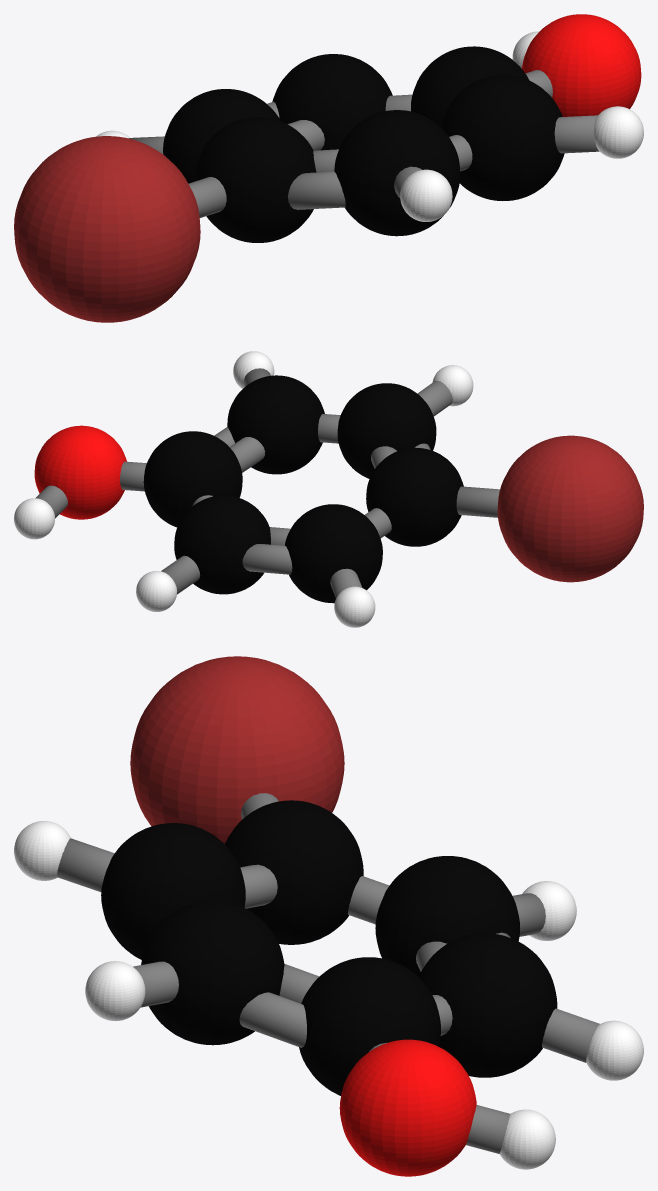
The model's file is BROMOFENOL.obj.
The picture shows the model from 3 angles, top to bottom: view 1: azimuth 30°, elevation 25°; view 2: azimuth 150°, elevation 25°; view 3: azimuth 270°, elevation 25°; orthographic projection. The views are drawn at different scales.
Visible parts, largest first — view 1: Carbon_ball_Sphere.003, Bromine_ball_Sphere.002, Oxygen_ball_Sphere.001, Hydrogen_ball_Sphere, Stick_Cylinder.015_Cylinder.017, Stick_Cylinder.010_Cylinder.010, Stick_Cylinder.003_Cylinder.003, Stick_Cylinder.013_Cylinder.013, Stick_Cylinder.008_Cylinder.008, Stick_Cylinder.011_Cylinder.011; view 2: Carbon_ball_Sphere.003, Bromine_ball_Sphere.002, Oxygen_ball_Sphere.001, Hydrogen_ball_Sphere, Stick_Cylinder.014_Cylinder.014, Stick_Cylinder.003_Cylinder.003, Stick_Cylinder.004_Cylinder.004, Stick_Cylinder.005_Cylinder.016, Stick_Cylinder.009_Cylinder.009, Stick_Cylinder.002_Cylinder.002, Stick_Cylinder.011_Cylinder.011, Stick_Cylinder_Cylinder (+2 smaller); view 3: Carbon_ball_Sphere.003, Bromine_ball_Sphere.002, Oxygen_ball_Sphere.001, Hydrogen_ball_Sphere, Stick_Cylinder.012_Cylinder.012, Stick_Cylinder.004_Cylinder.004, Stick_Cylinder.009_Cylinder.009, Stick_Cylinder.001_Cylinder.001, Stick_Cylinder.010_Cylinder.010, Stick_Cylinder.007_Cylinder.007, Stick_Cylinder.008_Cylinder.008, Stick_Cylinder_Cylinder (+1 smaller).
Part boxes in pixels (x1=…): Carbon_ball_Sphere.003: x1=163, y1=46, x2=564, y2=242; Bromine_ball_Sphere.002: x1=14, y1=136, x2=200, y2=322; Oxygen_ball_Sphere.001: x1=522, y1=14, x2=641, y2=116; Hydrogen_ball_Sphere: x1=96, y1=31, x2=643, y2=221; Stick_Cylinder.015_Cylinder.017: x1=287, y1=171, x2=345, y2=209; Stick_Cylinder.010_Cylinder.010: x1=554, y1=115, x2=599, y2=153; Stick_Cylinder.003_Cylinder.003: x1=188, y1=177, x2=226, y2=217; Stick_Cylinder.013_Cylinder.013: x1=287, y1=120, x2=324, y2=150; Stick_Cylinder.008_Cylinder.008: x1=313, y1=149, x2=338, y2=172; Stick_Cylinder.011_Cylinder.011: x1=449, y1=135, x2=472, y2=171; Carbon_ball_Sphere.003: x1=143, y1=375, x2=463, y2=603; Bromine_ball_Sphere.002: x1=497, y1=435, x2=643, y2=582; Oxygen_ball_Sphere.001: x1=34, y1=425, x2=126, y2=519; Hydrogen_ball_Sphere: x1=14, y1=351, x2=473, y2=627; Stick_Cylinder.014_Cylinder.014: x1=242, y1=544, x2=292, y2=574; Stick_Cylinder.003_Cylinder.003: x1=456, y1=486, x2=499, y2=517; Stick_Cylinder.004_Cylinder.004: x1=161, y1=555, x2=200, y2=594; Stick_Cylinder.005_Cylinder.016: x1=229, y1=437, x2=265, y2=472; Stick_Cylinder.009_Cylinder.009: x1=417, y1=380, x2=452, y2=416; Stick_Cylinder.002_Cylinder.002: x1=120, y1=461, x2=146, y2=491; Stick_Cylinder.011_Cylinder.011: x1=318, y1=414, x2=340, y2=443; Stick_Cylinder_Cylinder: x1=330, y1=568, x2=362, y2=598; Carbon_ball_Sphere.003: x1=101, y1=800, x2=557, y2=1095; Bromine_ball_Sphere.002: x1=130, y1=656, x2=344, y2=843; Oxygen_ball_Sphere.001: x1=339, y1=1039, x2=476, y2=1176; Hydrogen_ball_Sphere: x1=14, y1=821, x2=643, y2=1169; Stick_Cylinder.012_Cylinder.012: x1=239, y1=992, x2=306, y2=1047; Stick_Cylinder.004_Cylinder.004: x1=542, y1=1008, x2=599, y2=1062; Stick_Cylinder.009_Cylinder.009: x1=57, y1=838, x2=114, y2=891; Stick_Cylinder.001_Cylinder.001: x1=466, y1=1105, x2=509, y2=1153; Stick_Cylinder.010_Cylinder.010: x1=133, y1=961, x2=178, y2=1007; Stick_Cylinder.007_Cylinder.007: x1=348, y1=876, x2=389, y2=924; Stick_Cylinder.008_Cylinder.008: x1=240, y1=864, x2=277, y2=908; Stick_Cylinder_Cylinder: x1=512, y1=893, x2=545, y2=936.
Size of the model in its own units: 8.64 by 2.3 by 6.03.
